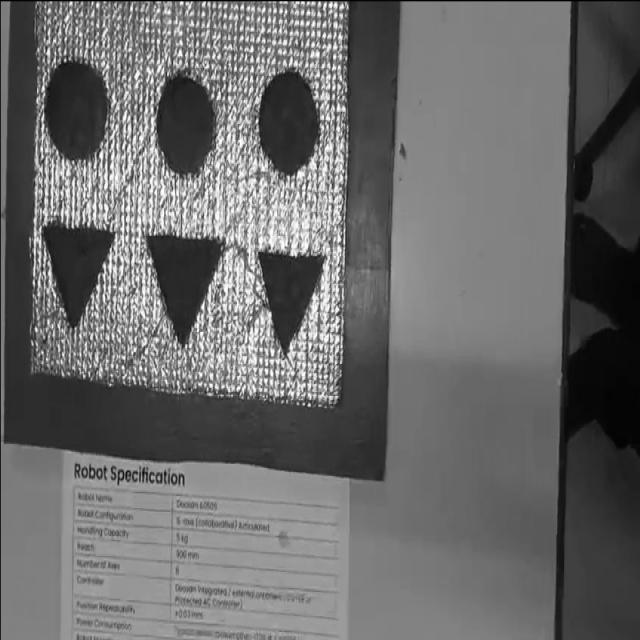mtcircle: (43, 59, 109, 166), (258, 70, 318, 178), (155, 73, 216, 176)
mttriangle: (144, 232, 224, 348), (42, 221, 115, 327), (257, 249, 326, 358)
wb: (29, 4, 353, 408)
